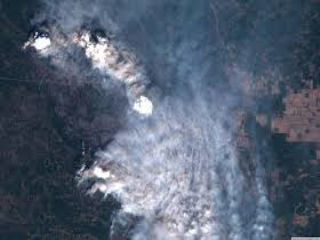smoke: (78, 32, 155, 123), (25, 30, 61, 60)
